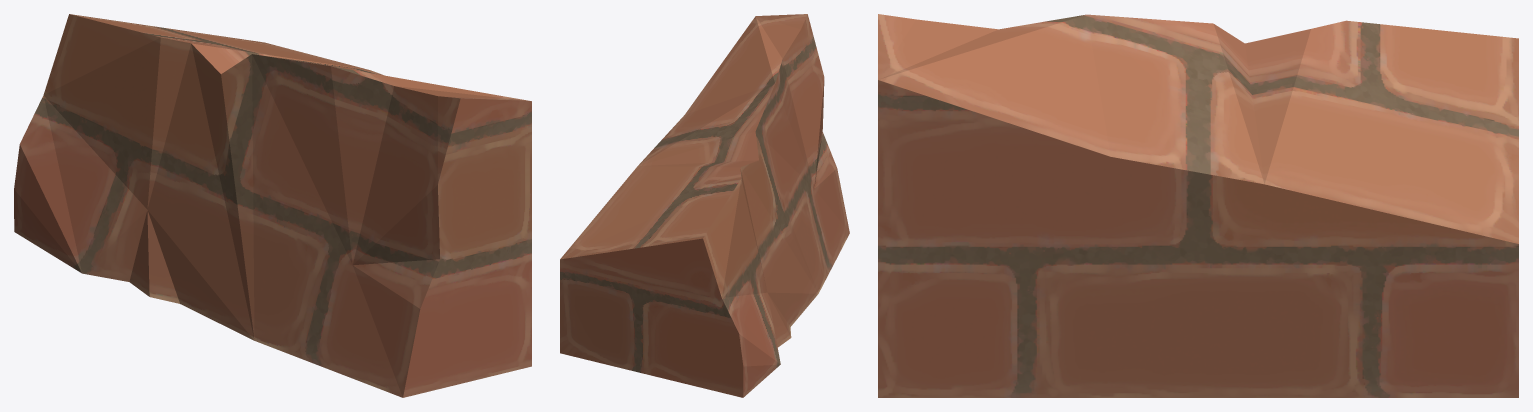
Rendered from gib5.fbx.
The picture shows the model from 3 angles, left to right: view 1: azimuth 30°, elevation 25°; view 2: azimuth 150°, elevation 25°; view 3: azimuth 270°, elevation 25°; orthographic projection. The views are drawn at different scales.
Visible parts, largest first — view 1: gib5; view 2: gib5; view 3: gib5.
Part boxes in pixels (box(x1,y1,x2,y2)): gib5: box(14, 14, 531, 397); gib5: box(560, 14, 849, 397); gib5: box(878, 14, 1518, 397).
Size of the model in its own units: 17.32 by 18.86 by 32.
1 material, 1 textured.
